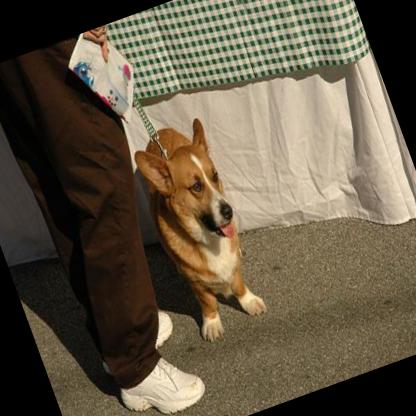Cardigan: (124, 110, 278, 344)
